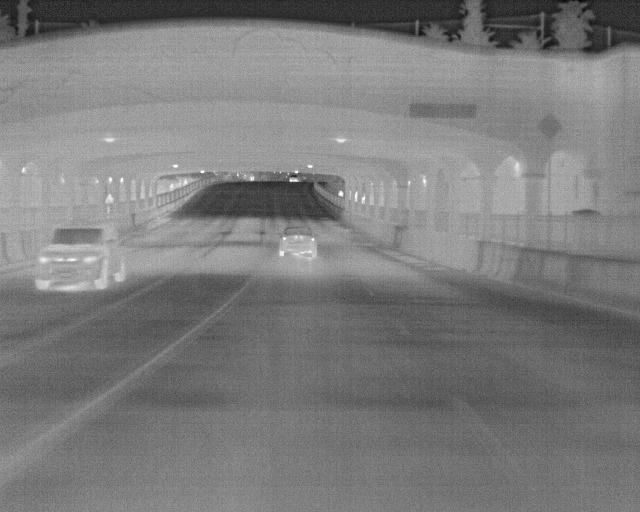car: (32, 222, 128, 291), (278, 223, 317, 258)
